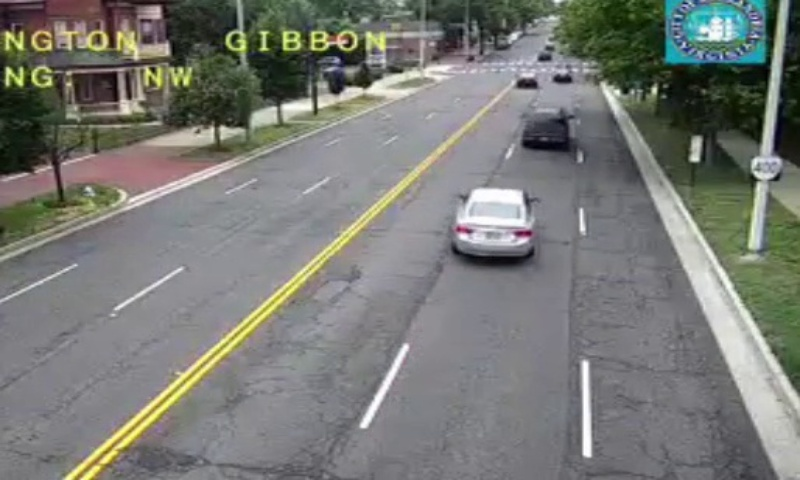car: (452, 187, 536, 257), (522, 108, 572, 145)
